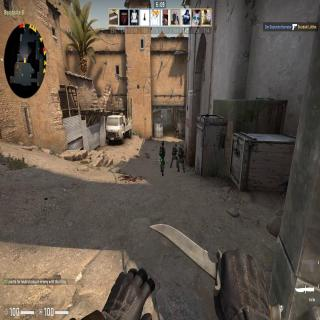CT-Body: (159, 140, 166, 172), (178, 141, 186, 165), (172, 141, 178, 163), (174, 127, 180, 138)
CT-Head: (180, 142, 183, 147), (174, 142, 177, 146), (162, 142, 164, 146), (176, 127, 178, 130)
